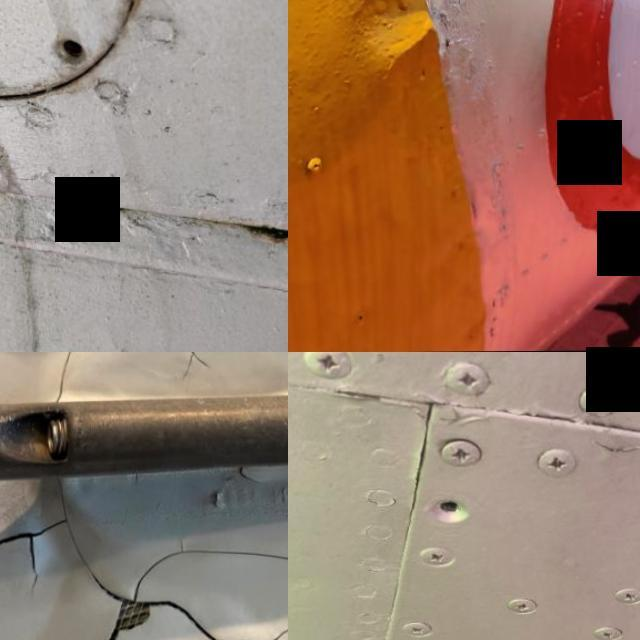Crack: (52, 473, 125, 608), (124, 543, 288, 602), (0, 518, 59, 597), (136, 594, 229, 640), (49, 352, 78, 405)
Dent: (317, 0, 472, 98)
Missing_Fastener: (408, 472, 486, 543), (33, 20, 104, 87)
